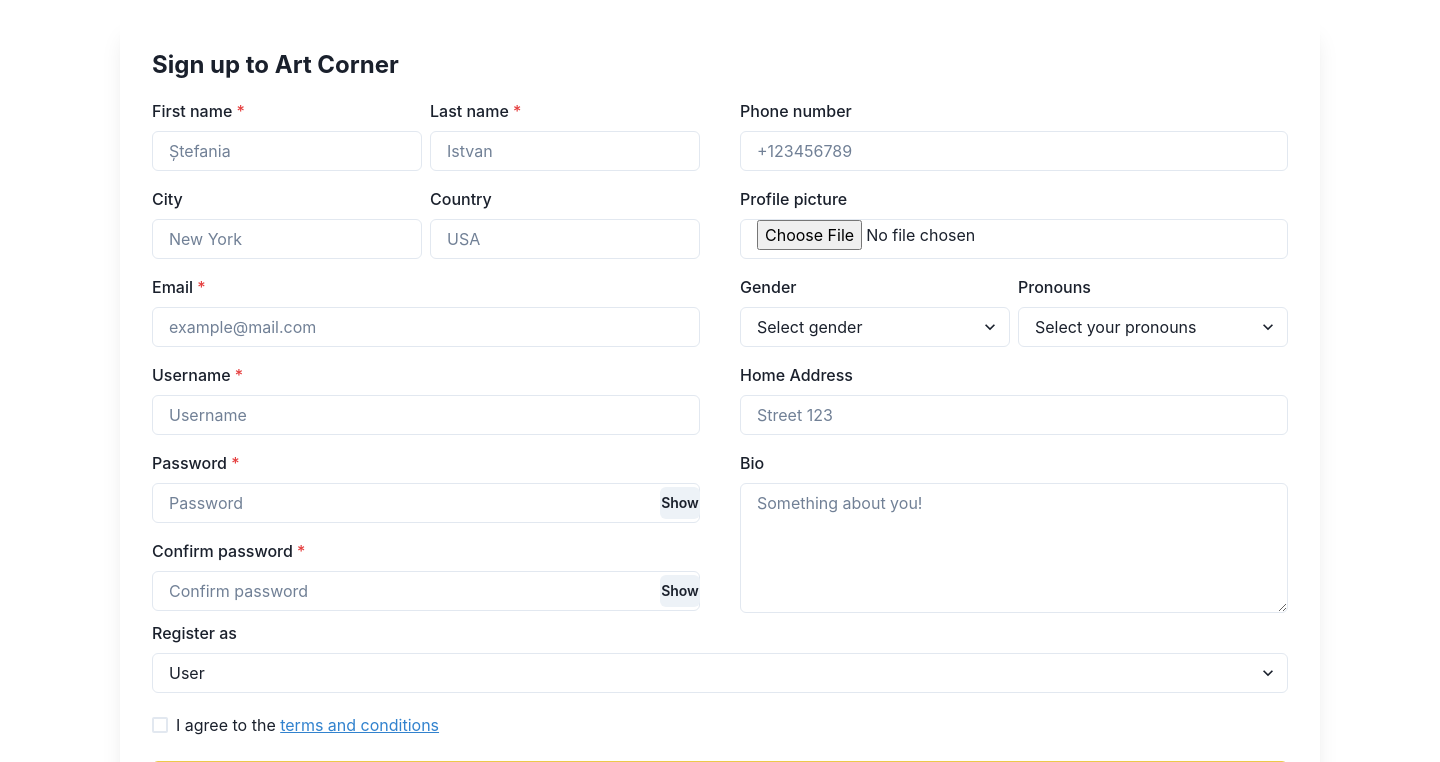
Scenario: SignupCard › should display validation errors for invalid email format
Type "Test" into the field labelled "First name *" at (287, 151), box [152,131,422,171]
Type "User" into the field labelled "Last name *" at (565, 151), box [430,131,700,171]
Type "testuser" into the field labelled "Username *" at (426, 415), box [152,395,700,435]
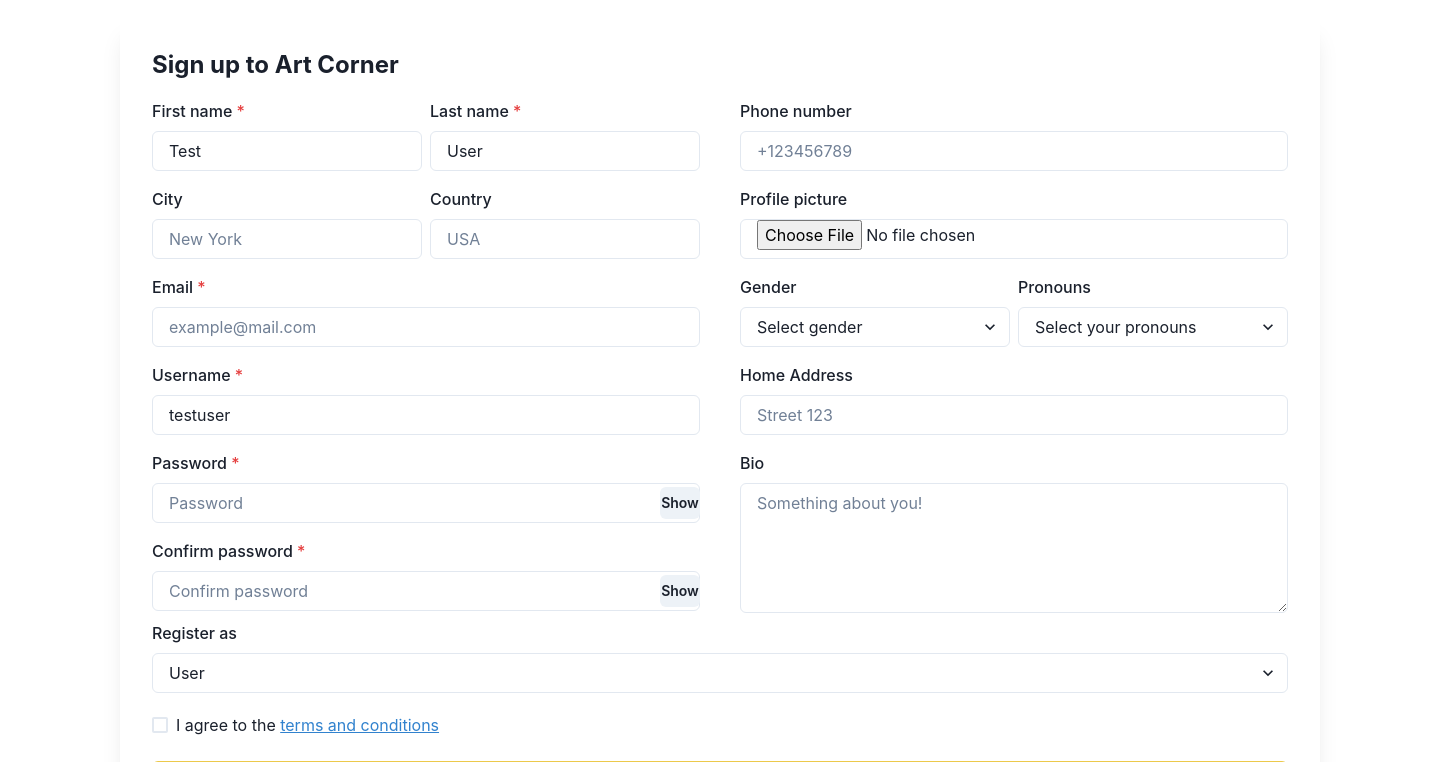
Type "invalid-email" into the field labelled "Email *" at (426, 327), box [152,307,700,347]
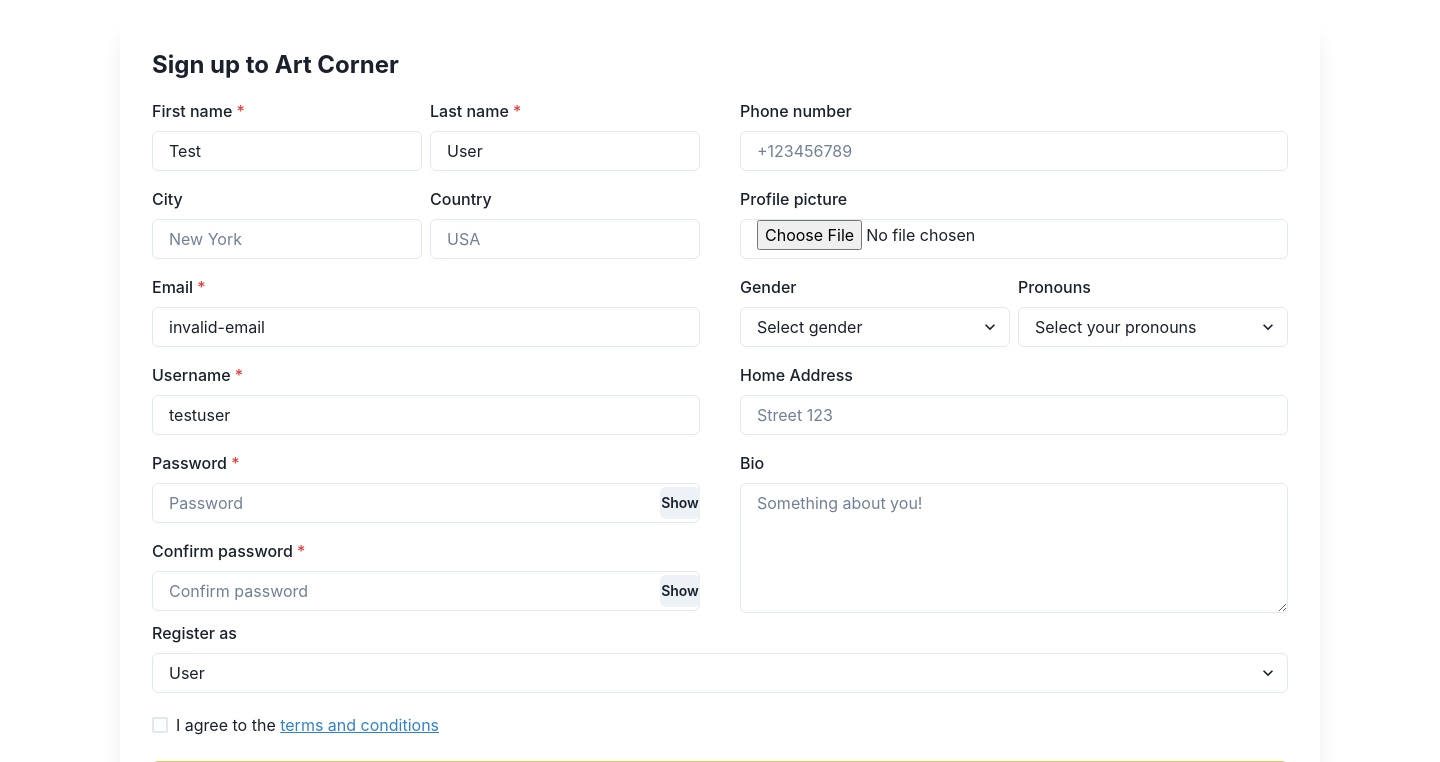
Type "Password123!" into the password field labelled "Password *" at (426, 503), box [152,483,700,523]
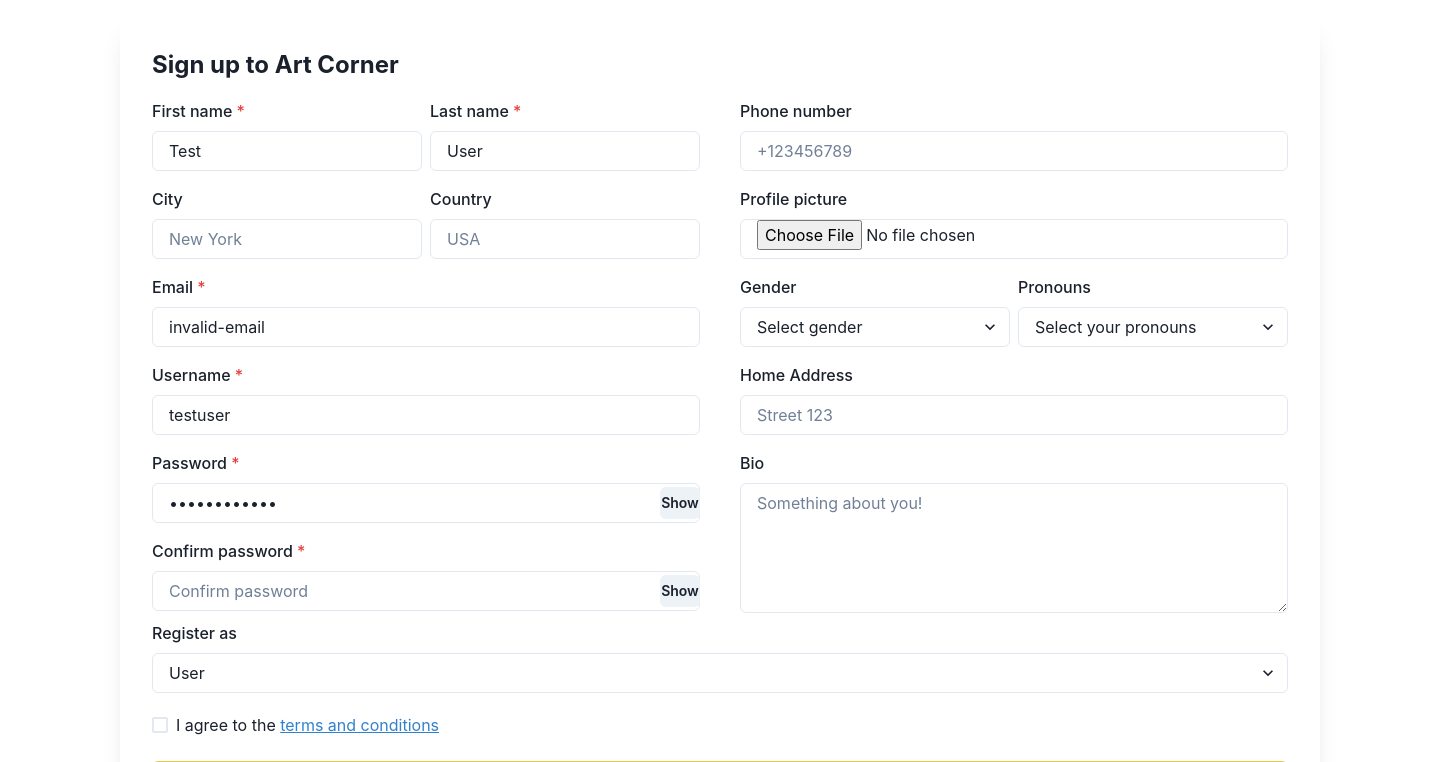
Type "Password123!" into the password field labelled "Confirm password *" at (426, 591), box [152,571,700,611]
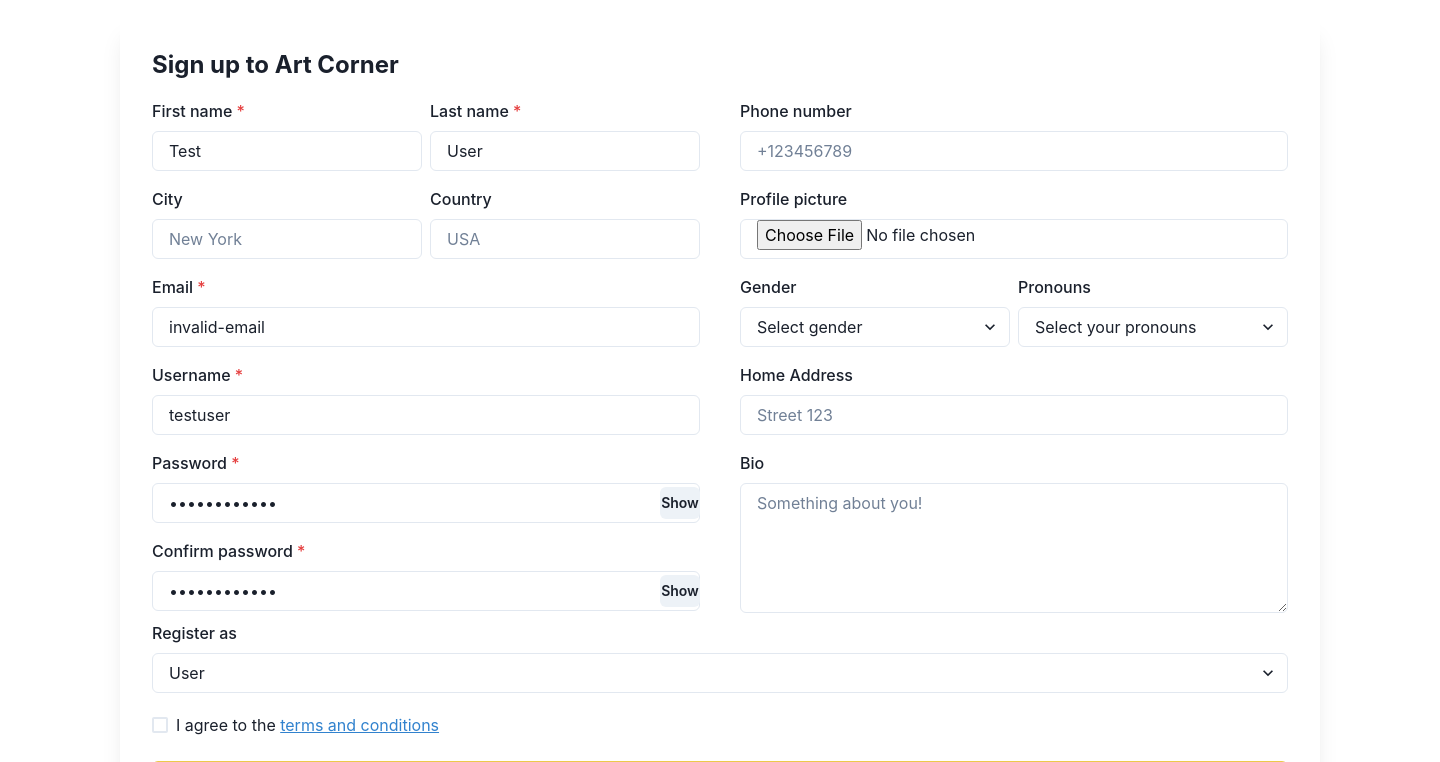
Click the checkbox labelled "I agree to the terms and conditions" at (296, 725), box [152,713,439,737]
(page scrolled)
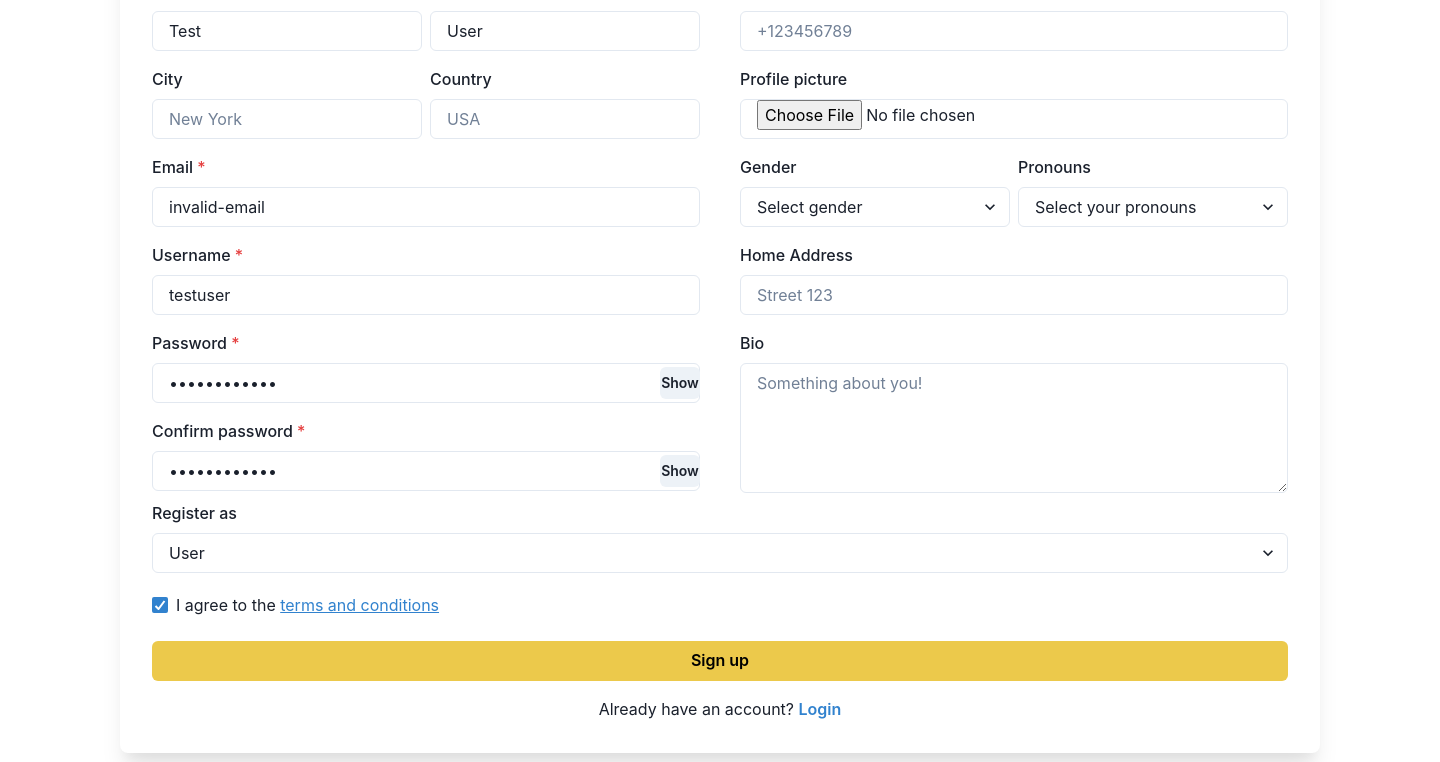
Click the button "Sign up" at (720, 661), box [152,641,1288,681]
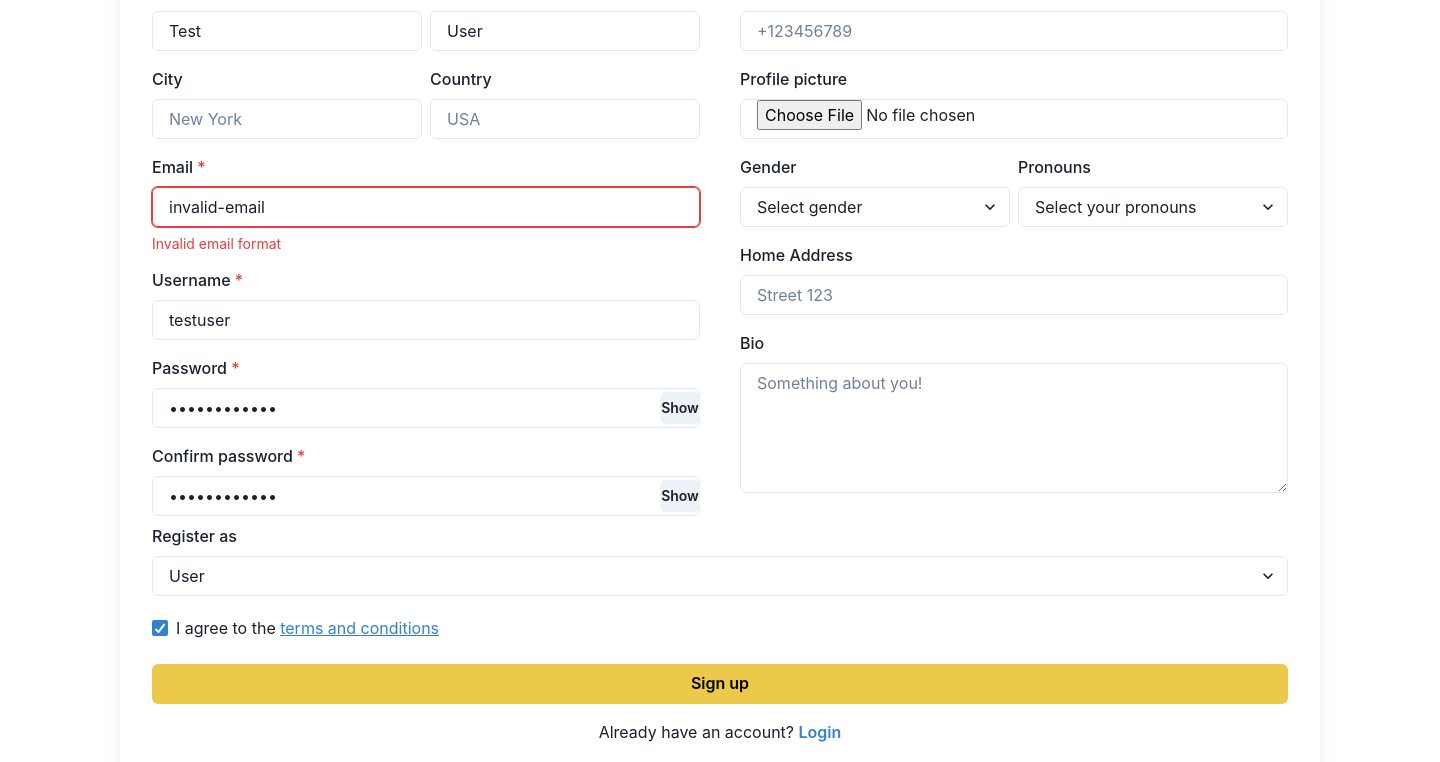
expect the text "Invalid email format" is shown: met, box [152,235,281,252]
